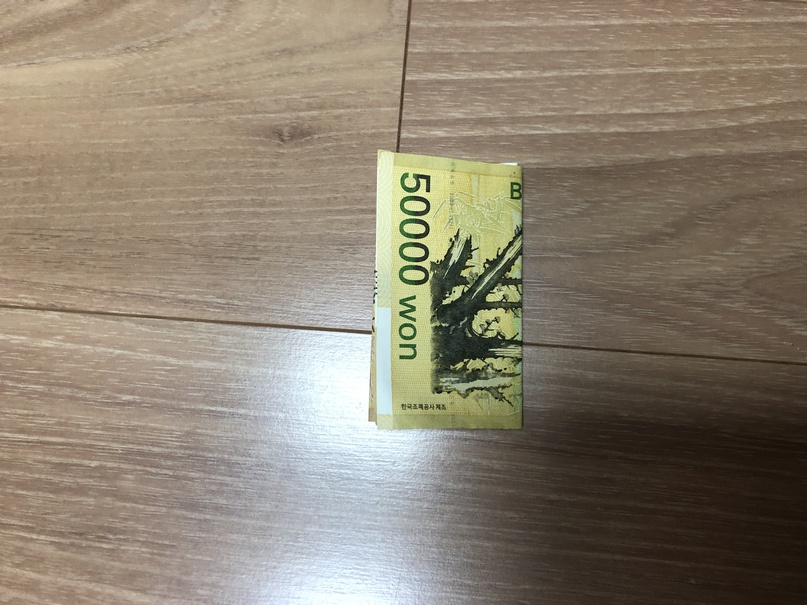50000won: (374, 150, 525, 433)
